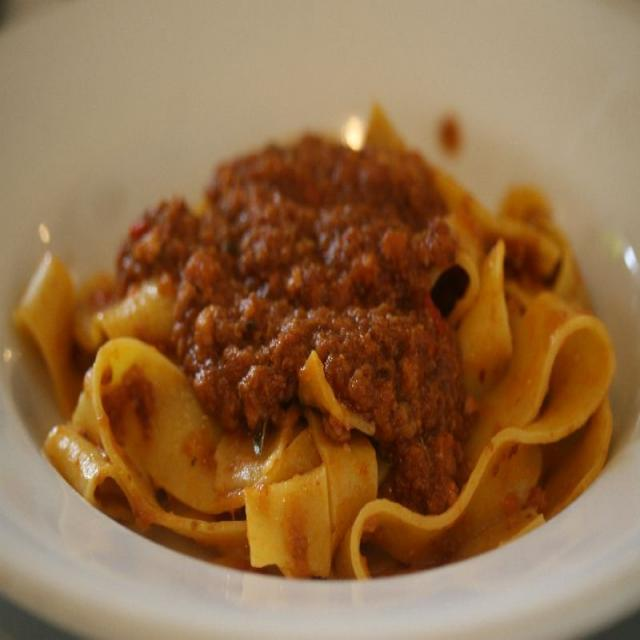Pasta al ragu: (65, 92, 611, 538)
